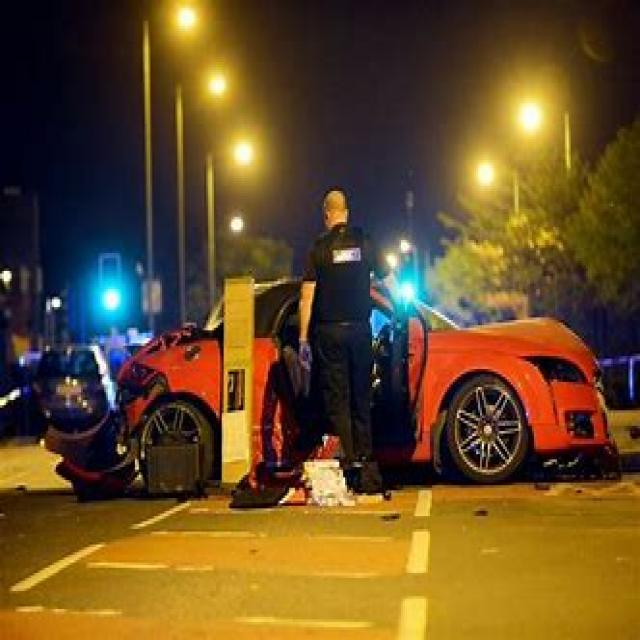Accident: (95, 165, 535, 556)
